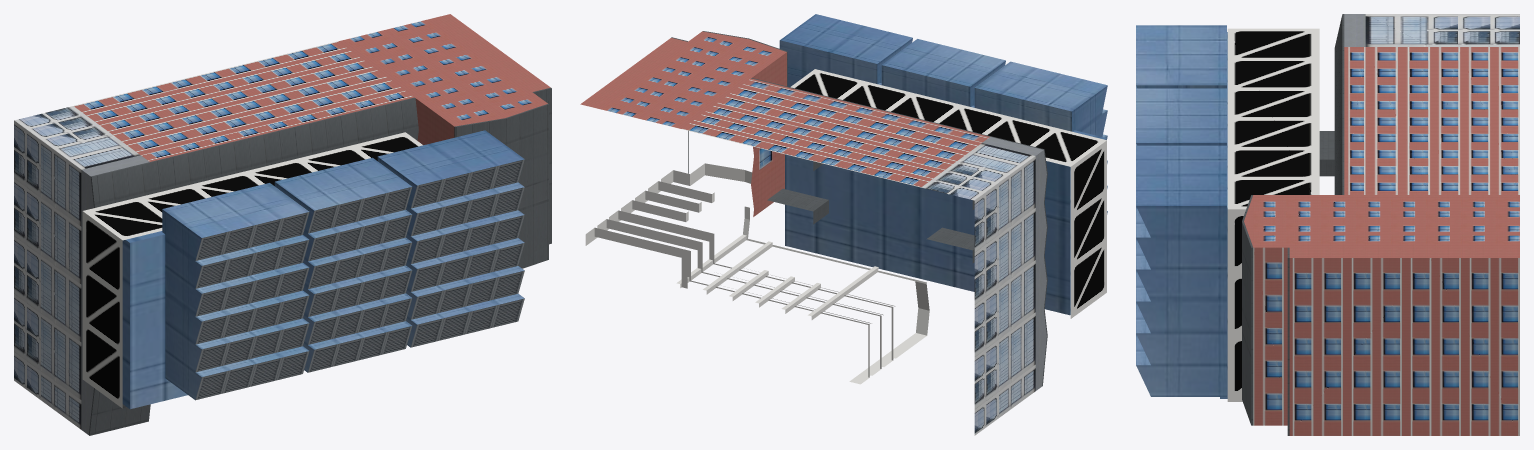
The model's file is sgy_034_2.gltf.
The picture shows the model from 3 angles, left to right: view 1: azimuth 30°, elevation 25°; view 2: azimuth 150°, elevation 25°; view 3: azimuth 270°, elevation 25°; orthographic projection. The views are drawn at different scales.
Visible parts, largest first — view 1: Box026; view 2: Box026; view 3: Box026.
Part boxes in pixels (x1=…): Box026: x1=14, y1=14, x2=551, y2=435; Box026: x1=580, y1=14, x2=1107, y2=435; Box026: x1=1136, y1=14, x2=1519, y2=435.
Bounding box in the file's own units: 90.05 × 49.21 × 57.41.
9 materials, 9 textured.
